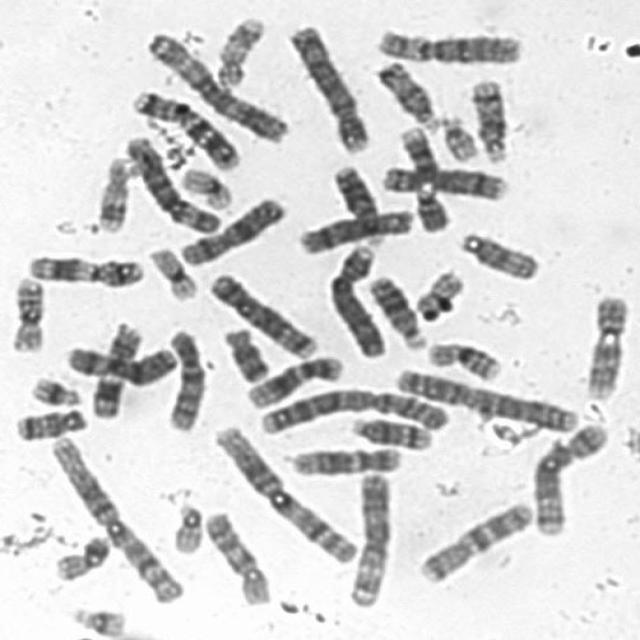A1: (46, 430, 189, 605), (205, 418, 361, 566)
A2: (390, 362, 583, 434), (254, 381, 451, 437)
A3: (140, 26, 291, 144), (342, 465, 396, 610)
B4: (284, 18, 375, 156), (326, 239, 389, 360)
B5: (203, 266, 321, 362), (526, 418, 612, 538)
C10: (199, 505, 274, 607), (162, 325, 208, 435)
C11: (87, 320, 145, 420), (22, 250, 146, 290)
C12: (241, 351, 347, 411), (284, 442, 404, 478)
C6: (121, 131, 224, 236), (370, 23, 528, 68)
C7: (414, 496, 537, 586), (126, 84, 244, 172)
C8: (292, 205, 417, 258), (378, 159, 512, 203)
C9: (394, 122, 455, 234), (578, 289, 634, 401)
D13: (363, 271, 430, 352), (329, 163, 386, 247)
D14: (465, 73, 514, 165), (346, 411, 436, 451)
D15: (371, 56, 445, 134), (454, 227, 543, 283)
E16: (423, 336, 506, 383), (4, 271, 47, 354)
E17: (209, 9, 268, 89), (91, 152, 132, 235)
E18: (217, 322, 273, 384), (12, 403, 90, 442)
F19: (145, 244, 199, 304), (176, 162, 235, 212)
F20: (49, 530, 114, 584), (410, 264, 468, 322)
G21: (65, 600, 129, 638), (24, 372, 84, 408)
G22: (437, 110, 481, 163), (167, 497, 205, 555)
X: (176, 192, 291, 267), (61, 339, 179, 387)
